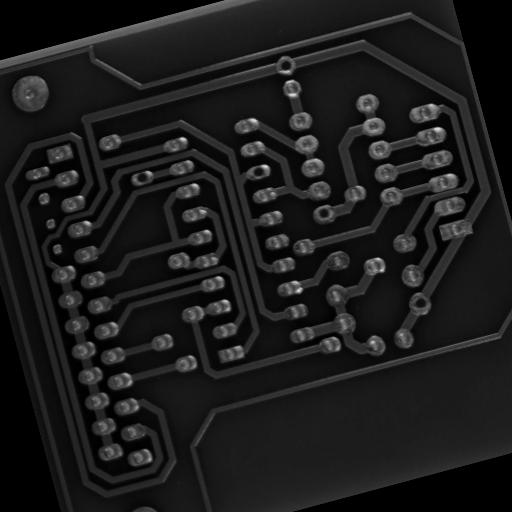missing_hole: (406, 292, 432, 316), (246, 163, 268, 183), (274, 56, 294, 75), (314, 205, 332, 221), (132, 170, 150, 186)
